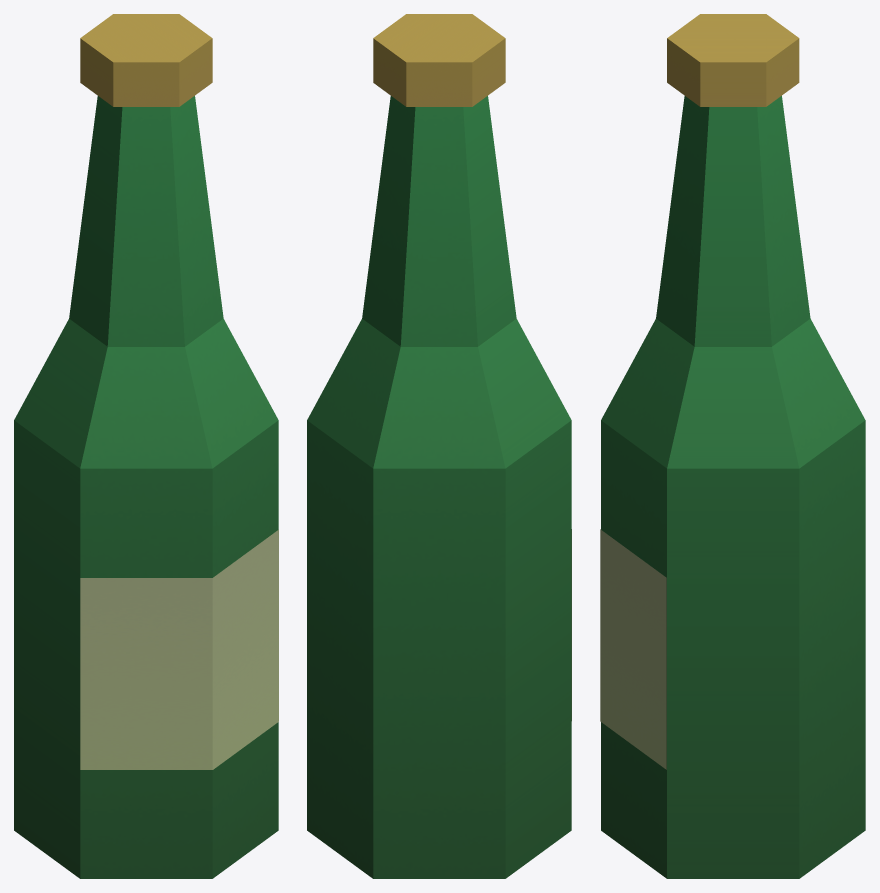
File: Beer Bottle.obj
3 views of the same model, side by side, from view 1: azimuth 30°, elevation 25°; view 2: azimuth 150°, elevation 25°; view 3: azimuth 270°, elevation 25° (orthographic).
Parts seen in each view (by area): view 1: Cylinder.001_Cylinder; view 2: Cylinder.001_Cylinder; view 3: Cylinder.001_Cylinder.
Boxes of the visible parts, bbox=[...] form: Cylinder.001_Cylinder: bbox=[14, 14, 278, 878]; Cylinder.001_Cylinder: bbox=[307, 14, 571, 878]; Cylinder.001_Cylinder: bbox=[600, 14, 865, 878].
Bounding box in the file's own units: 0.2189 × 0.8352 × 0.2533.
